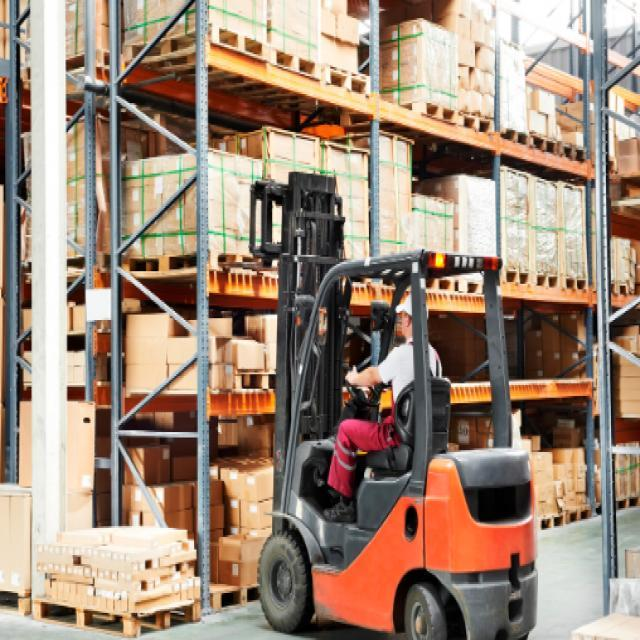boots: (321, 494, 358, 526)
